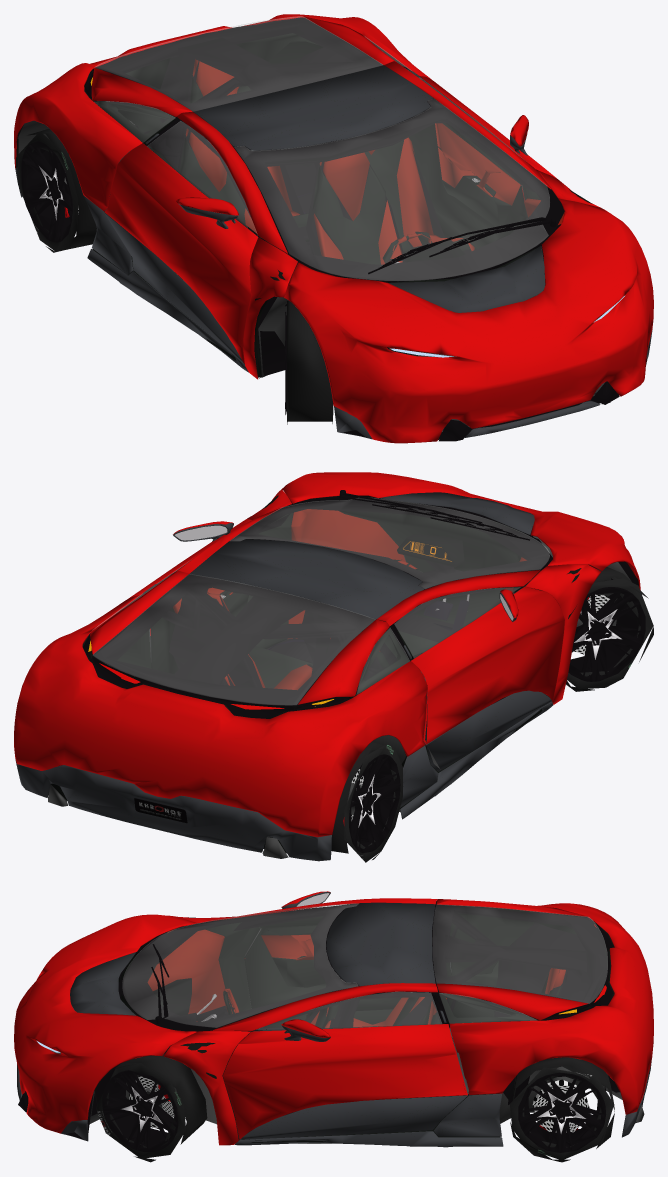
Rendered from car.glb.
3 views of the same model, one above another, from view 1: azimuth 30°, elevation 25°; view 2: azimuth 150°, elevation 25°; view 3: azimuth 270°, elevation 25° (orthographic). The views are drawn at different scales.
Parts seen in each view (by area): view 1: BodyRearPanelsColor1, BodyWindshield, BodyWindshieldGasket, BodyRoofPanel, InteriorDashSides, InteriorDashMid, InteriorSeatsColor2, object 21, WheelFrontLRim, BodyUnderside, InteriorMid, InteriorSteeringDash; view 2: BodyRearPanelsColor1, BodyWindshield, BodyWindshieldGasket, BodyRoofPanel, InteriorDashMid, WheelFrontLRim, InteriorDashSides, object 21, InteriorSeatsColor2, BodyUnderside, InteriorSteeringDash, InteriorMid (+3 smaller); view 3: BodyRearPanelsColor1, BodyWindshield, BodyWindshieldGasket, BodyRoofPanel, WheelFrontLRim, InteriorDashMid, object 21, InteriorDashSides, InteriorMid, BodyUnderside, WheelFrontLBrakeDisc, InteriorSteeringDash (+1 smaller).
Part boxes in pixels (x1,y1,x2,y2): BodyRearPanelsColor1: (14,14,653,443); BodyWindshield: (94,16,549,280); BodyWindshieldGasket: (18,17,647,441); BodyRoofPanel: (15,65,652,439); InteriorDashSides: (185,59,564,350); InteriorDashMid: (15,33,534,282); InteriorSeatsColor2: (179,78,471,264); object 21: (18,128,332,424); WheelFrontLRim: (21,141,333,414); BodyUnderside: (18,77,604,431); InteriorMid: (92,173,592,376); InteriorSteeringDash: (406,240,465,262); BodyRearPanelsColor1: (14,472,640,837); BodyWindshield: (93,498,549,705); BodyWindshieldGasket: (59,490,638,795); BodyRoofPanel: (15,492,553,861); InteriorDashMid: (48,501,529,853); WheelFrontLRim: (349,578,645,853); InteriorDashSides: (173,496,526,712); object 21: (331,567,653,862); InteriorSeatsColor2: (177,611,438,688); BodyUnderside: (48,519,631,858); InteriorSteeringDash: (397,534,464,567); InteriorMid: (143,495,581,809); BodyRearPanelsColor1: (14,891,653,1145); BodyWindshield: (122,903,607,1030); BodyWindshieldGasket: (18,901,642,1139); BodyRoofPanel: (17,892,651,1147); WheelFrontLRim: (102,1070,606,1152); InteriorDashMid: (118,906,614,1038); object 21: (94,1053,614,1162); InteriorDashSides: (147,928,565,1098); InteriorMid: (180,917,500,1143); BodyUnderside: (38,928,644,1124); WheelFrontLBrakeDisc: (129,1076,590,1132); InteriorSteeringDash: (153,978,191,1015).
Bounding box in the file's own units: 2.54 × 1.15 × 4.36.
Materials: 23 (18 with a texture image).
